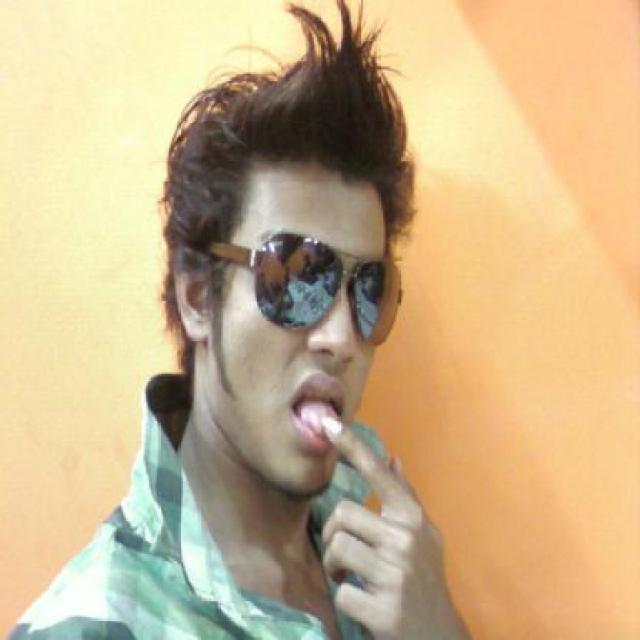face_nomask: (254, 236, 372, 438)
glasses: (210, 225, 410, 348)
hand_noglove: (310, 414, 433, 640)
head_nohelmet: (195, 62, 398, 206)
person: (70, 37, 433, 640)
